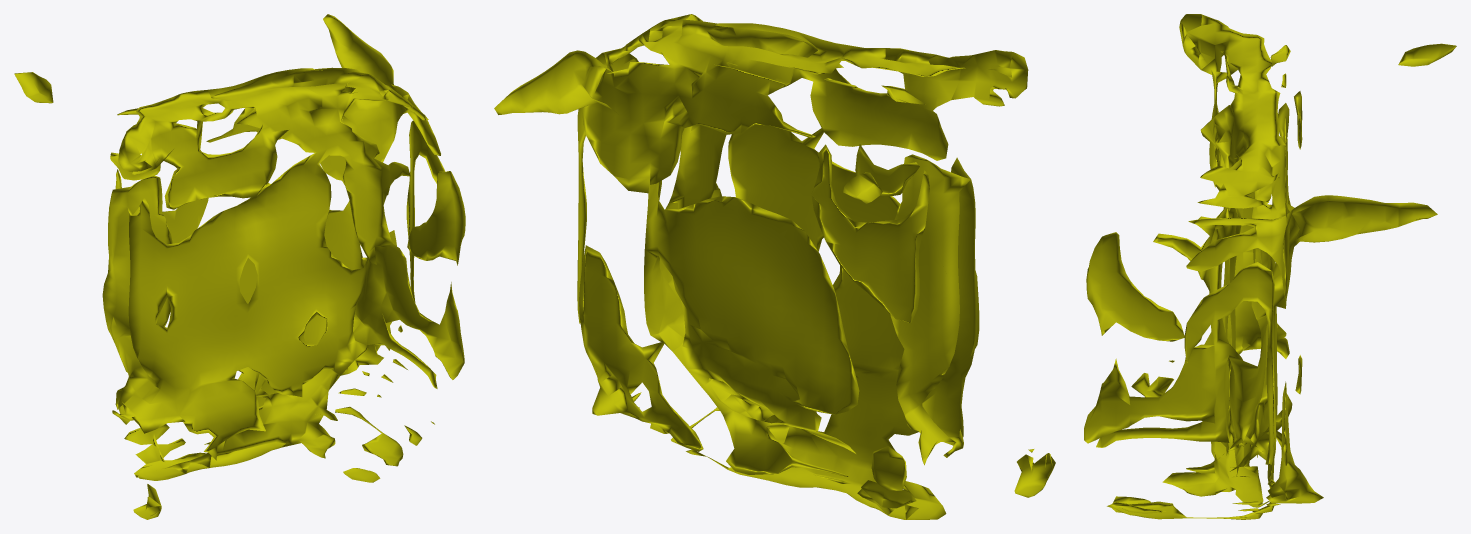
3 renders of one model, left to right at view 1: azimuth 30°, elevation 25°; view 2: azimuth 150°, elevation 25°; view 3: azimuth 270°, elevation 25°, orthographic. The views are drawn at different scales.
Parts seen in each view (by area): view 1: world; view 2: world; view 3: world.
Boxes of the visible parts, x1=… form: world: x1=14, y1=14, x2=465, y2=519; world: x1=494, y1=14, x2=1055, y2=519; world: x1=1084, y1=14, x2=1456, y2=519.
Bounding box in the file's own units: 28.64 × 30.58 × 26.33.
